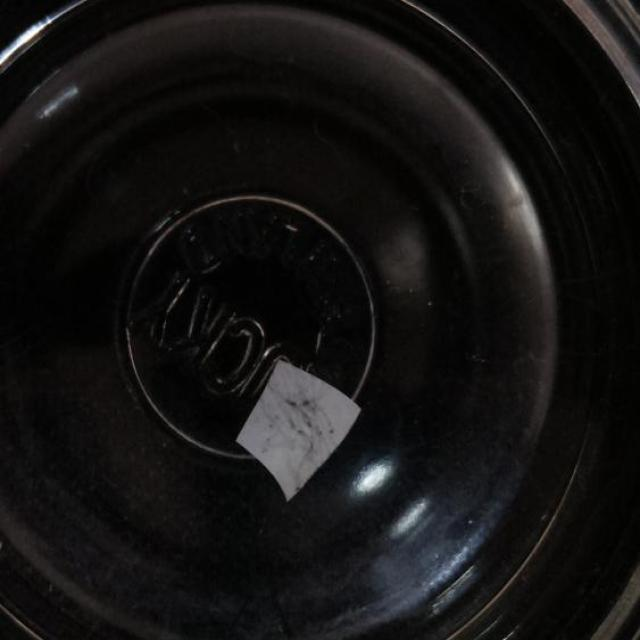fiber: (234, 355, 363, 510)
